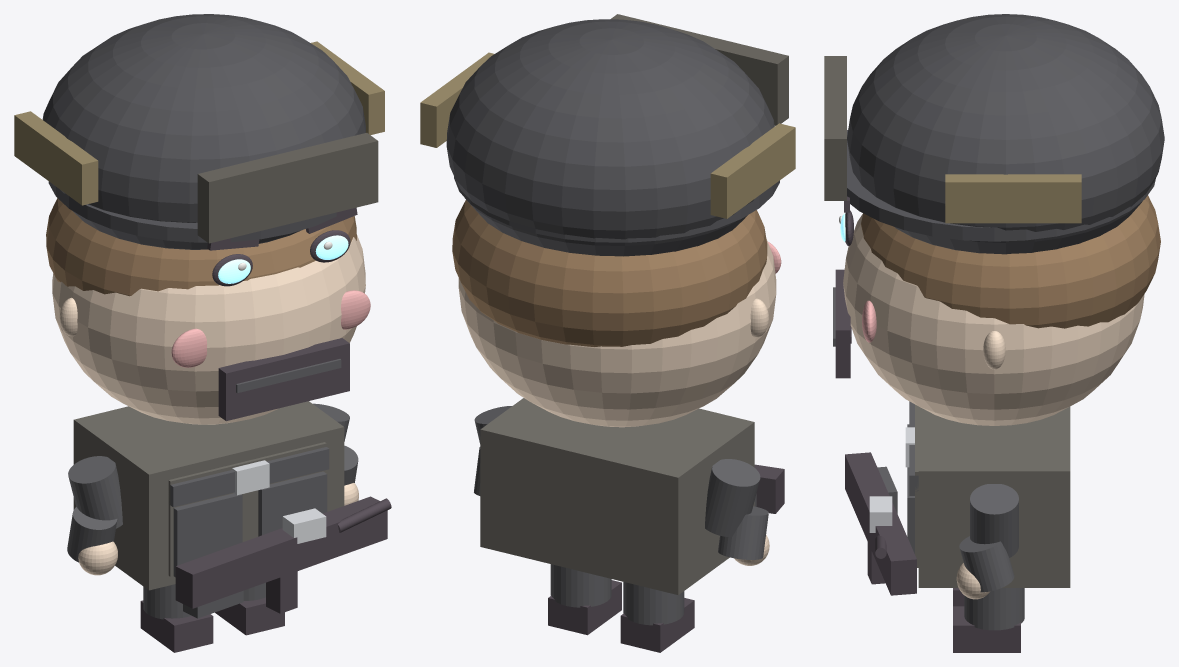
Rendered from merc.glb.
3 views of the same model, side by side, from view 1: azimuth 30°, elevation 25°; view 2: azimuth 150°, elevation 25°; view 3: azimuth 270°, elevation 25° (orthographic).
Visible parts, largest first — view 1: Helmet, Head, Coat, HairCap, RifleBody, Goggle_L, Goggle_R, Mask, GoggleStrap_L, VestPouch_L, HelmetBrim, VestStrap (+20 smaller); view 2: Helmet, Coat, HairCap, Head, GoggleStrap_L, UpperArm_L, Goggle_L, GoggleStrap_R, Leg_L, Leg_R, Shoe_L, Shoe_R (+4 smaller); view 3: Helmet, Head, Coat, HairCap, GoggleStrap_R, RifleBody, HelmetBrim, UpperArm_R, Goggle_R, Leg_R, Forearm_R, Shoe_R (+8 smaller).
Part boxes in pixels (<box>): Helmet: <box>42,14,365,249</box>; Head: <box>52,234,365,424</box>; Coat: <box>73,401,344,590</box>; HairCap: <box>46,198,356,296</box>; RifleBody: <box>175,496,387,608</box>; Goggle_L: <box>197,153,293,243</box>; Goggle_R: <box>283,133,378,222</box>; Mask: <box>218,338,349,421</box>; GoggleStrap_L: <box>14,111,98,205</box>; VestPouch_L: <box>173,493,242,577</box>; HelmetBrim: <box>48,181,336,242</box>; VestStrap: <box>168,447,329,507</box>; Helmet: <box>446,19,774,256</box>; Coat: <box>480,398,754,595</box>; HairCap: <box>452,200,767,346</box>; Head: <box>458,239,776,427</box>; GoggleStrap_L: <box>710,123,795,218</box>; UpperArm_L: <box>705,459,760,536</box>; Goggle_L: <box>698,35,788,125</box>; GoggleStrap_R: <box>420,52,494,147</box>; Leg_L: <box>623,582,684,625</box>; Leg_R: <box>550,564,611,607</box>; Shoe_L: <box>620,598,694,652</box>; Shoe_R: <box>548,580,621,635</box>; Helmet: <box>847,14,1164,254</box>; Head: <box>843,214,1144,425</box>; Coat: <box>918,407,1070,587</box>; HairCap: <box>861,195,1160,328</box>; GoggleStrap_R: <box>945,174,1081,223</box>; RifleBody: <box>845,452,916,595</box>; HelmetBrim: <box>847,130,1155,241</box>; UpperArm_R: <box>970,484,1018,557</box>; Goggle_R: <box>824,97,846,200</box>; Leg_R: <box>964,588,1024,630</box>; Forearm_R: <box>959,536,1014,592</box>; Shoe_R: <box>953,606,1020,652</box>.
Size of the model in its own units: 1.08 by 2 by 1.05.
